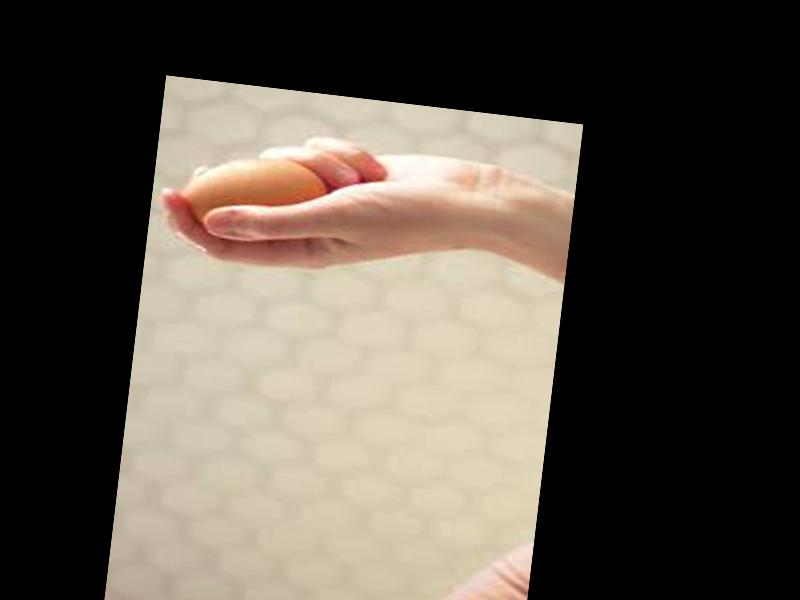Eggs: (181, 145, 330, 243)
